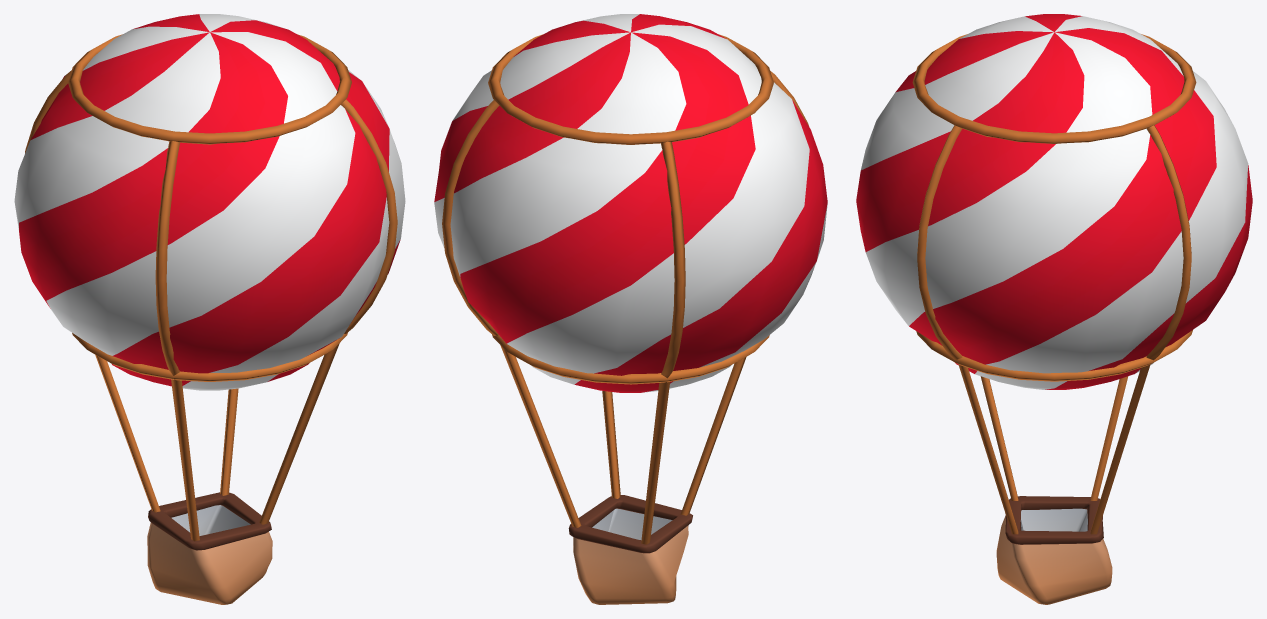
The model's file is air_balloon_001.glb.
The picture shows the model from 3 angles, left to right: view 1: azimuth 30°, elevation 25°; view 2: azimuth 150°, elevation 25°; view 3: azimuth 270°, elevation 25°; orthographic projection.
Visible parts, largest first — view 1: air_balloon_001; view 2: air_balloon_001; view 3: air_balloon_001.
Part boxes in pixels (x1,y1,x2,y2): air_balloon_001: (14, 14, 405, 604); air_balloon_001: (434, 14, 827, 604); air_balloon_001: (856, 14, 1252, 604).
Size of the model in its own units: 9.61 by 14.78 by 9.61.
1 material, 1 textured.
